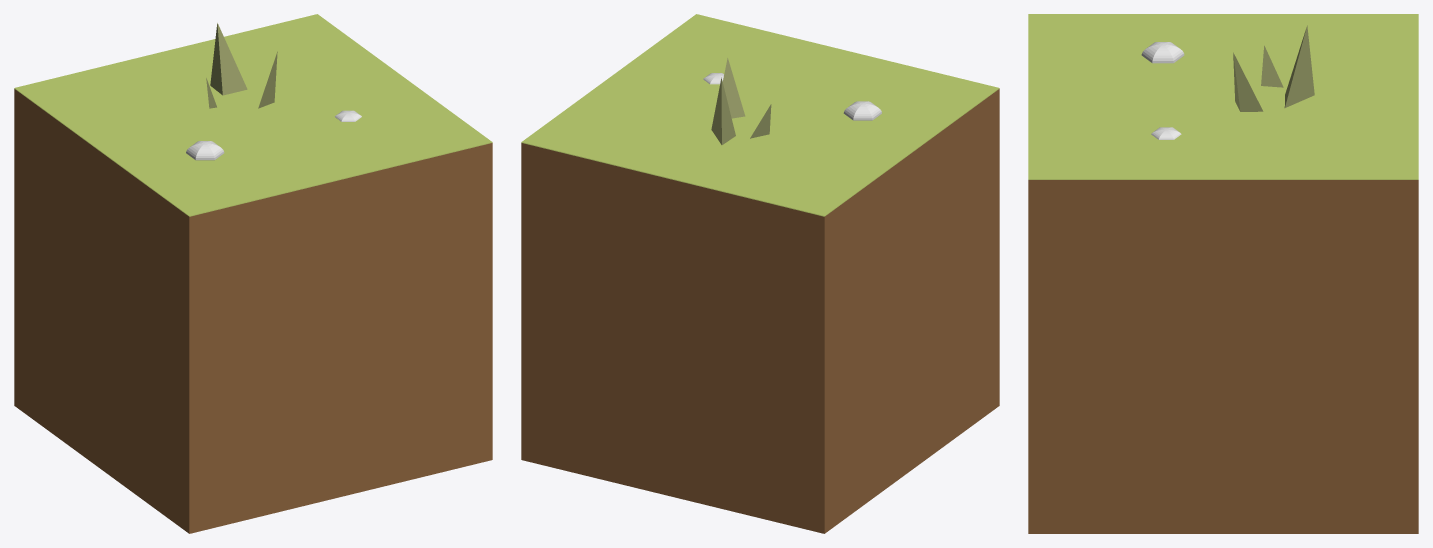
File: grass-tile-1.gltf
3 renders of one model, left to right at view 1: azimuth 30°, elevation 25°; view 2: azimuth 150°, elevation 25°; view 3: azimuth 270°, elevation 25°, orthographic. The views are drawn at different scales.
Parts seen in each view (by area): view 1: Cube, Grass, Grass 1.002, Sphere; view 2: Cube, Grass, Grass 1.002, Grass 1, Sphere; view 3: Cube, Grass, Grass 1.002, Grass 1, Sphere, Grass 1.001.
Part boxes in pixels (box(x1,y1,x2,y2)): Cube: box(14, 89, 492, 533); Grass: box(14, 14, 492, 216); Grass 1.002: box(210, 23, 247, 95); Sphere: box(186, 141, 224, 160); Cube: box(521, 89, 999, 533); Grass: box(521, 14, 999, 216); Grass 1.002: box(711, 77, 735, 144); Grass 1: box(722, 58, 745, 118); Sphere: box(843, 101, 881, 120); Cube: box(1028, 180, 1418, 533); Grass: box(1028, 14, 1418, 179); Grass 1.002: box(1284, 25, 1314, 107); Grass 1: box(1233, 52, 1263, 111); Sphere: box(1141, 42, 1184, 63); Grass 1.001: box(1261, 45, 1283, 87).
Bounding box in the file's own units: 2 × 2.41 × 2.
